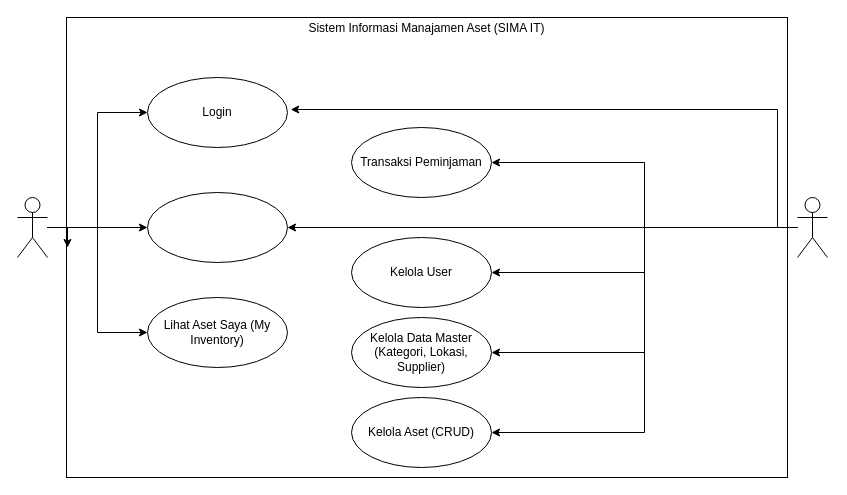
This 847x495 diagram has some shape labels left out. Each missing label, with the centre of its shape:
"Admin" belongs at point (812, 227).
"Dashboard" belongs at point (217, 227).
"Staff" belongs at point (32, 227).
